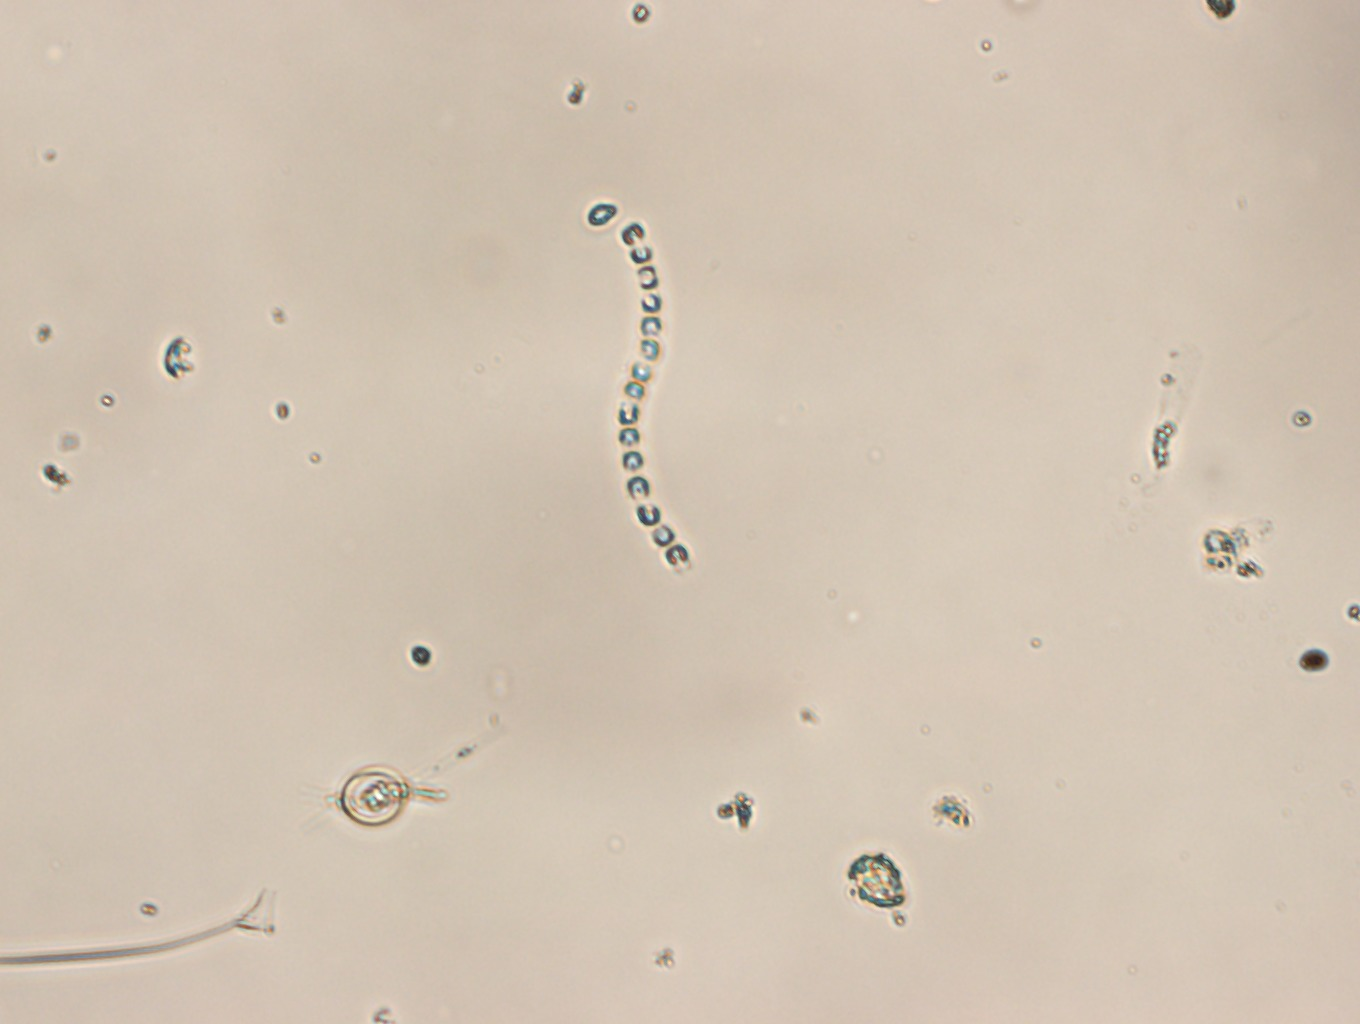skeletonema: (579, 198, 699, 577)
